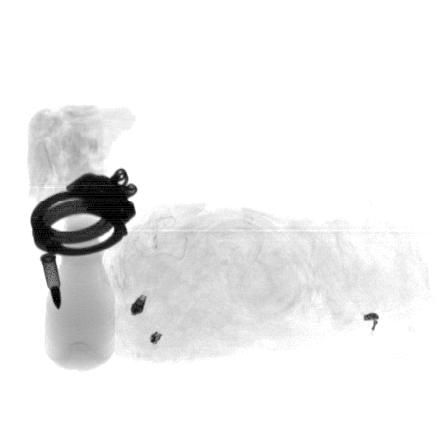Bullet: (40, 254, 61, 312)
HandCuffs: (29, 166, 139, 256)
